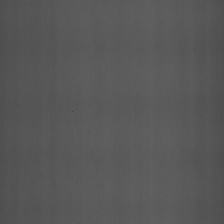inclusion: (70, 106, 77, 124)
